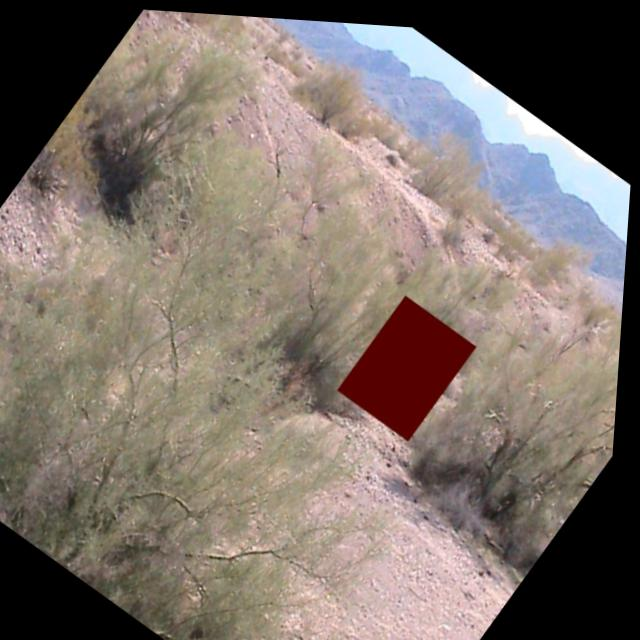RedSquare: (333, 277, 490, 444)
